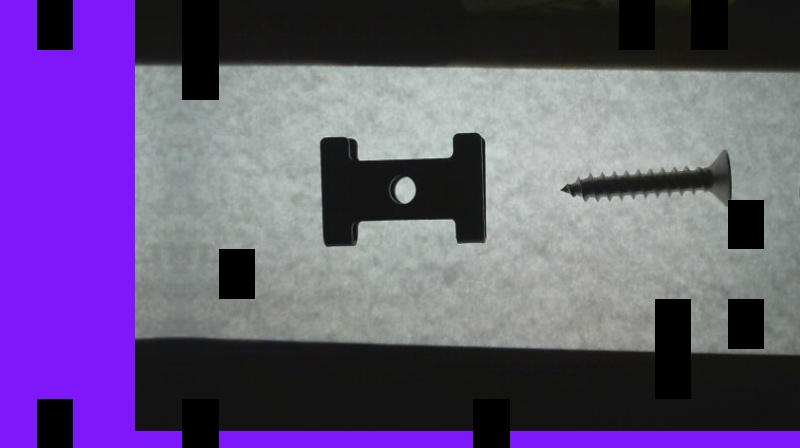O001: (790, 151, 799, 240)
O002: (313, 126, 489, 247)
S001: (559, 147, 732, 211)
